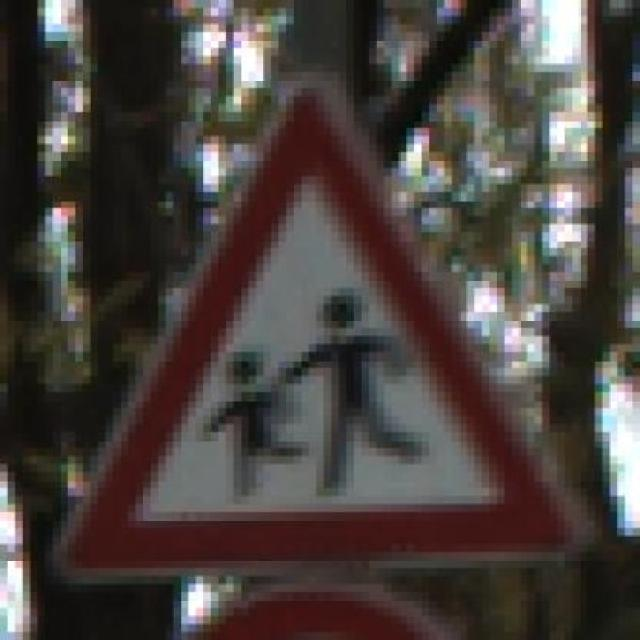Beware of children: (52, 79, 580, 576)
